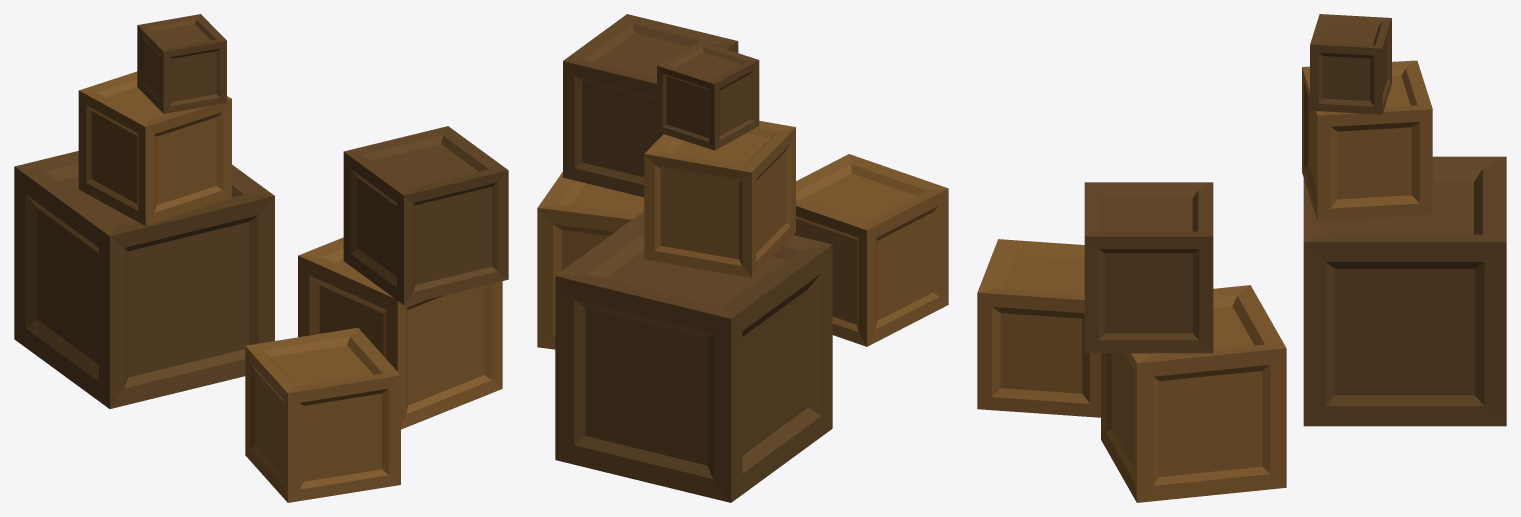
File: Cajas_v001.fbx
3 views of the same model, side by side, from view 1: azimuth 30°, elevation 25°; view 2: azimuth 150°, elevation 25°; view 3: azimuth 270°, elevation 25° (orthographic). The views are drawn at different scales.
Visible parts, largest first — view 1: Cube.008, Cube.010, Cube.011, Cube.009, Cube.007, Cube.012; view 2: Cube.008, Cube.011, Cube.007, Cube.010, Cube.012, Cube.009; view 3: Cube.008, Cube.009, Cube.010, Cube.011, Cube.007, Cube.012.
Boxes of the visible parts, left/top/right/bottom form: Cube.008: left=14, top=151, right=274, bottom=408; Cube.010: left=343, top=126, right=508, bottom=304; Cube.011: left=245, top=328, right=400, bottom=502; Cube.009: left=298, top=237, right=502, bottom=429; Cube.007: left=78, top=71, right=231, bottom=225; Cube.012: left=137, top=14, right=226, bottom=113; Cube.008: left=555, top=211, right=832, bottom=502; Cube.011: left=794, top=154, right=948, bottom=346; Cube.007: left=644, top=121, right=795, bottom=277; Cube.010: left=563, top=14, right=738, bottom=197; Cube.012: left=657, top=41, right=759, bottom=150; Cube.009: left=537, top=172, right=644, bottom=349; Cube.008: left=1303, top=156, right=1506, bottom=426; Cube.009: left=1101, top=285, right=1286, bottom=502; Cube.010: left=1084, top=182, right=1213, bottom=353; Cube.011: left=977, top=239, right=1100, bottom=417; Cube.007: left=1302, top=60, right=1432, bottom=220; Cube.012: left=1310, top=14, right=1391, bottom=114.
Bounding box in the file's own units: 412 × 422 × 565.
